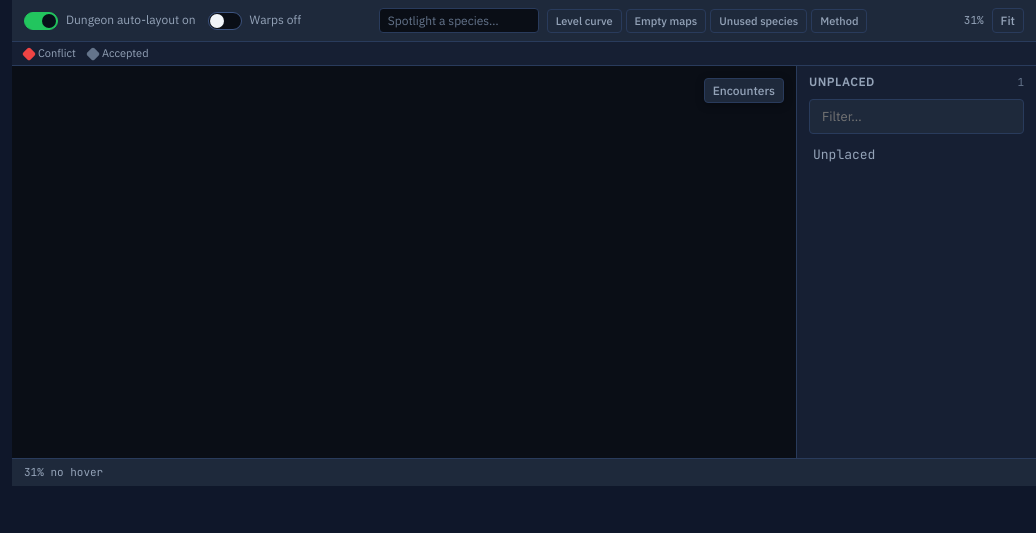
Test: an adapter rejects malformed warp map identity and the surface shows its alert
The width and height of the screenshot is (1036, 533).
Click the switch named "Warps".
click(225, 20)  # box [208,12,242,30]
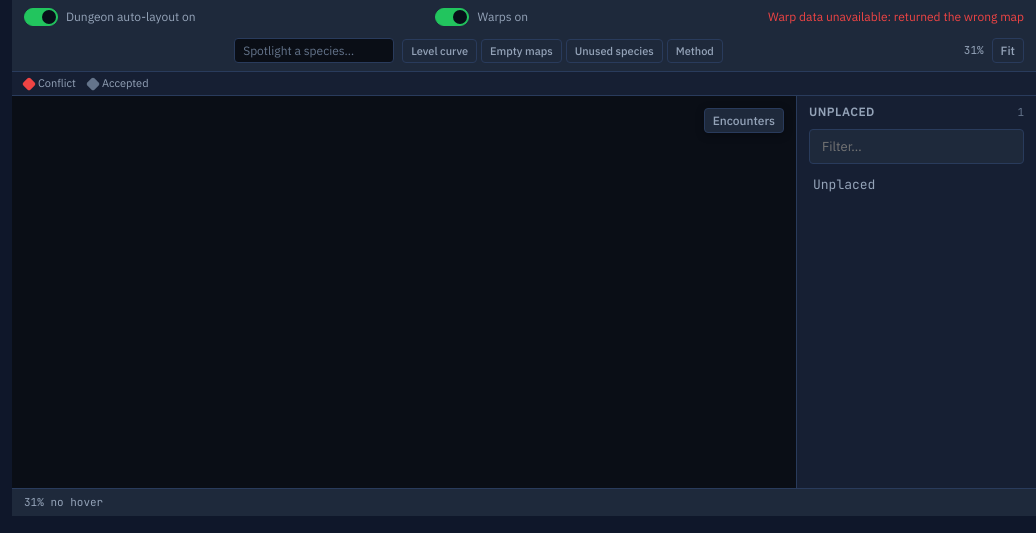
Expected: the text "Warp data unavailable: returned the wrong map" is shown, [768,9,1024,25]
